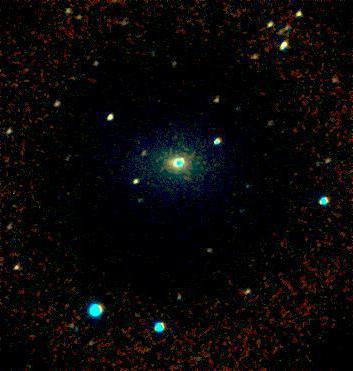star: (168, 143, 198, 173)
